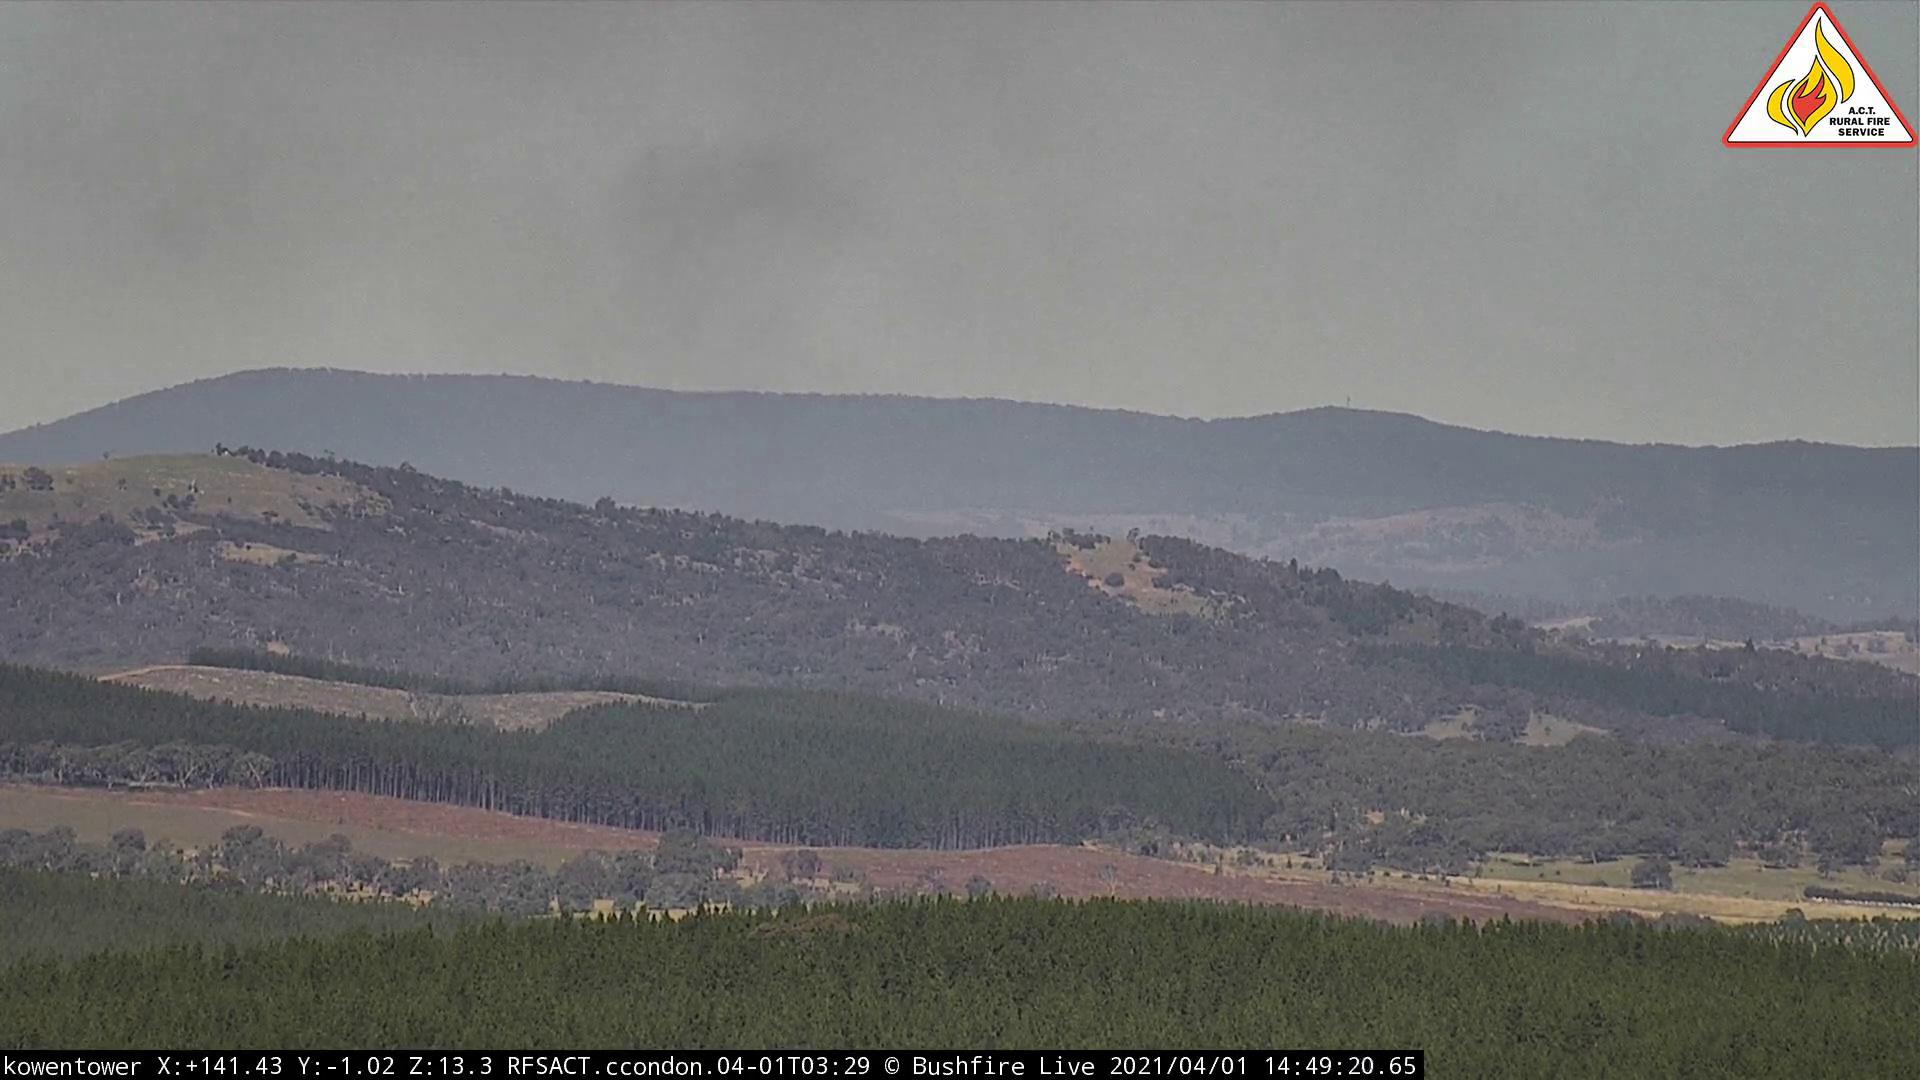Smoke: (513, 82, 887, 444)
